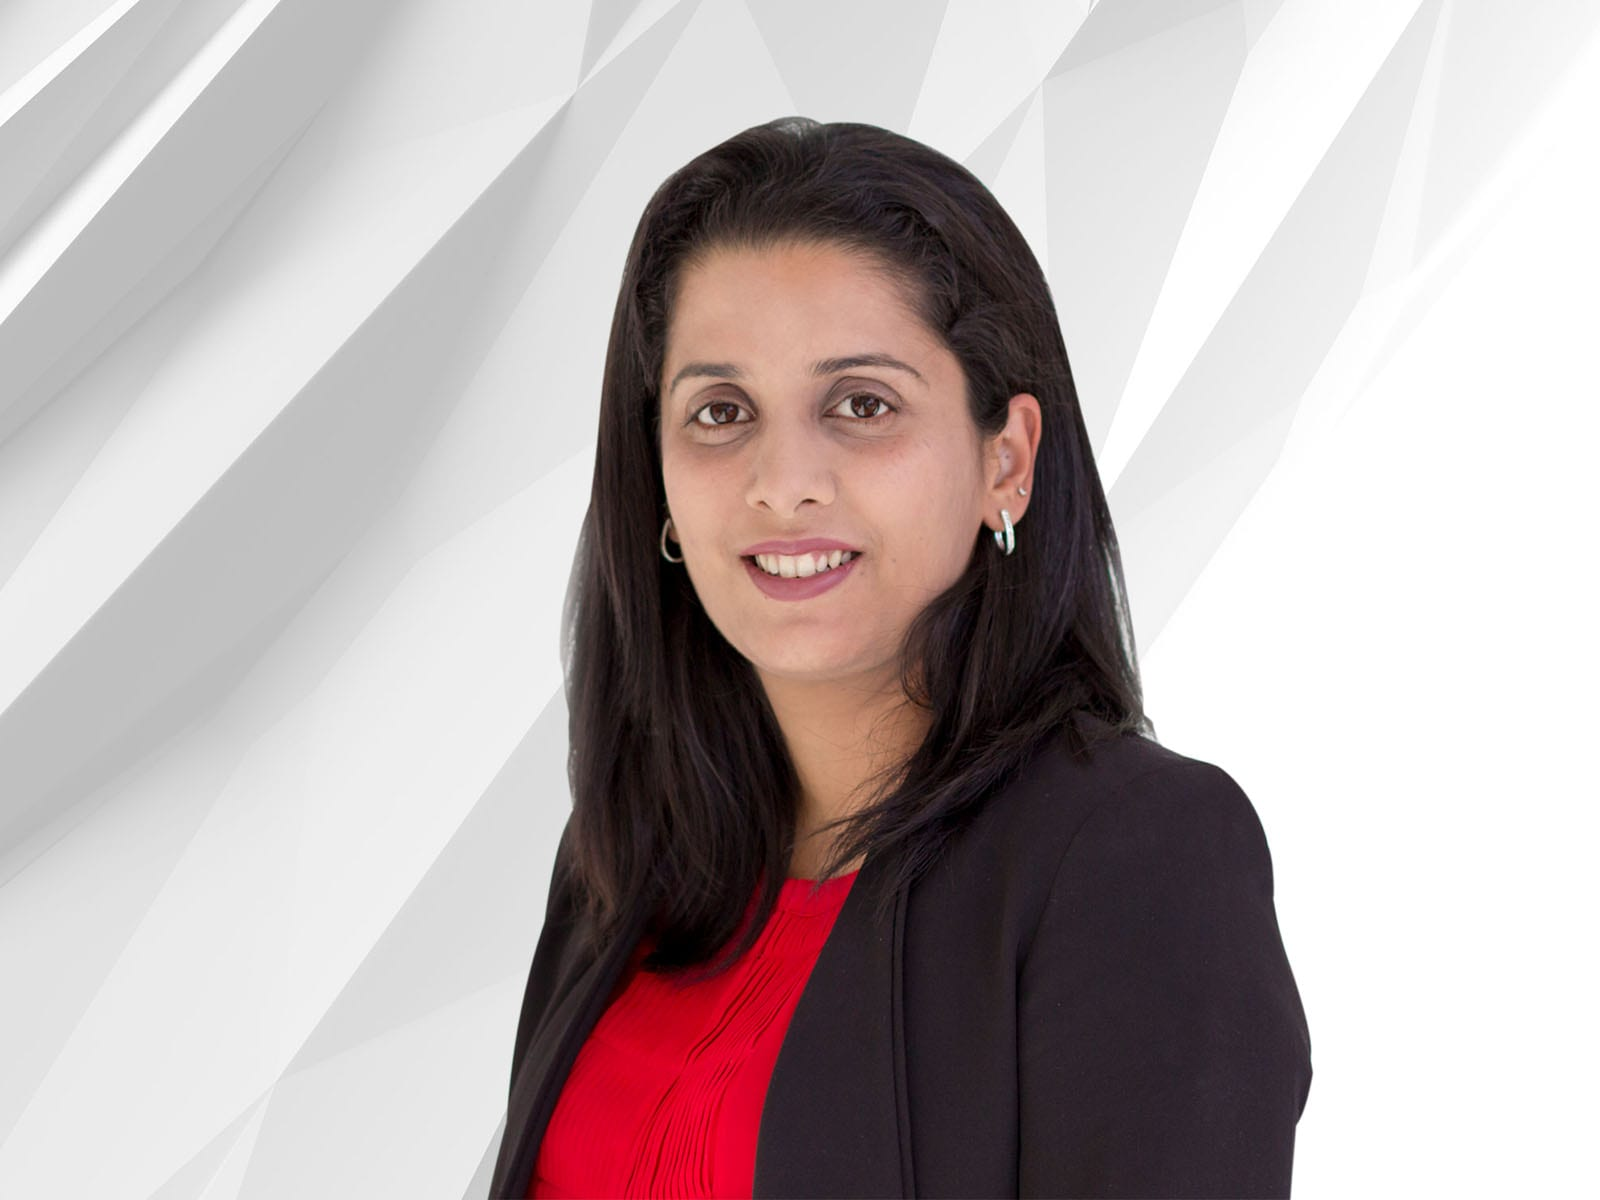bare: (666, 457, 985, 673)
